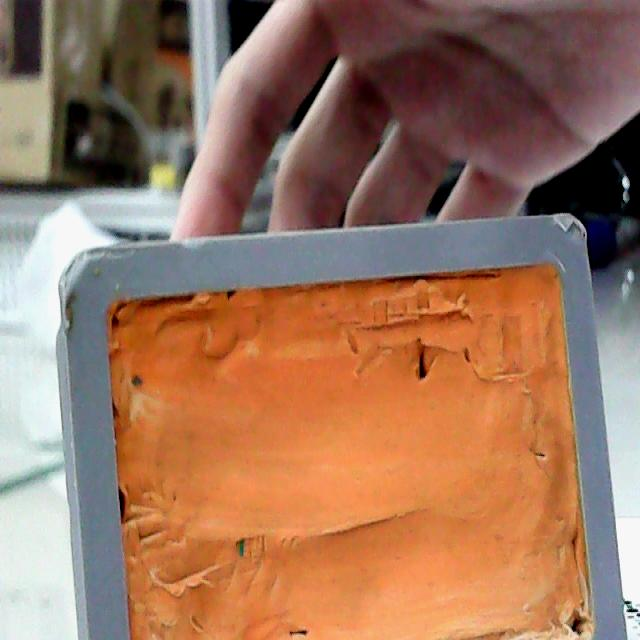block: (52, 212, 623, 640)
